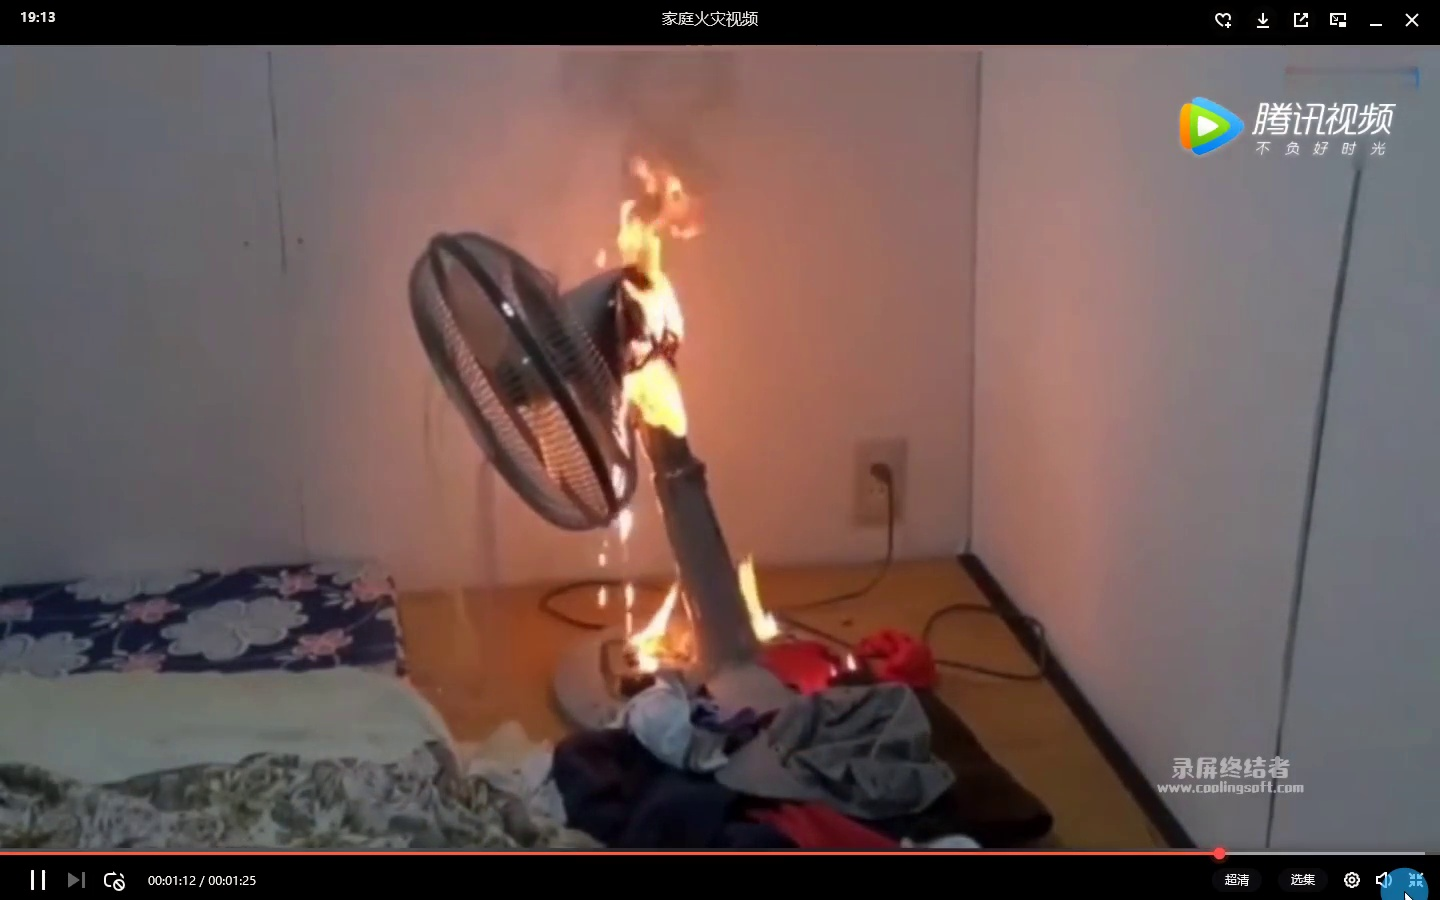fire: (602, 185, 712, 440)
